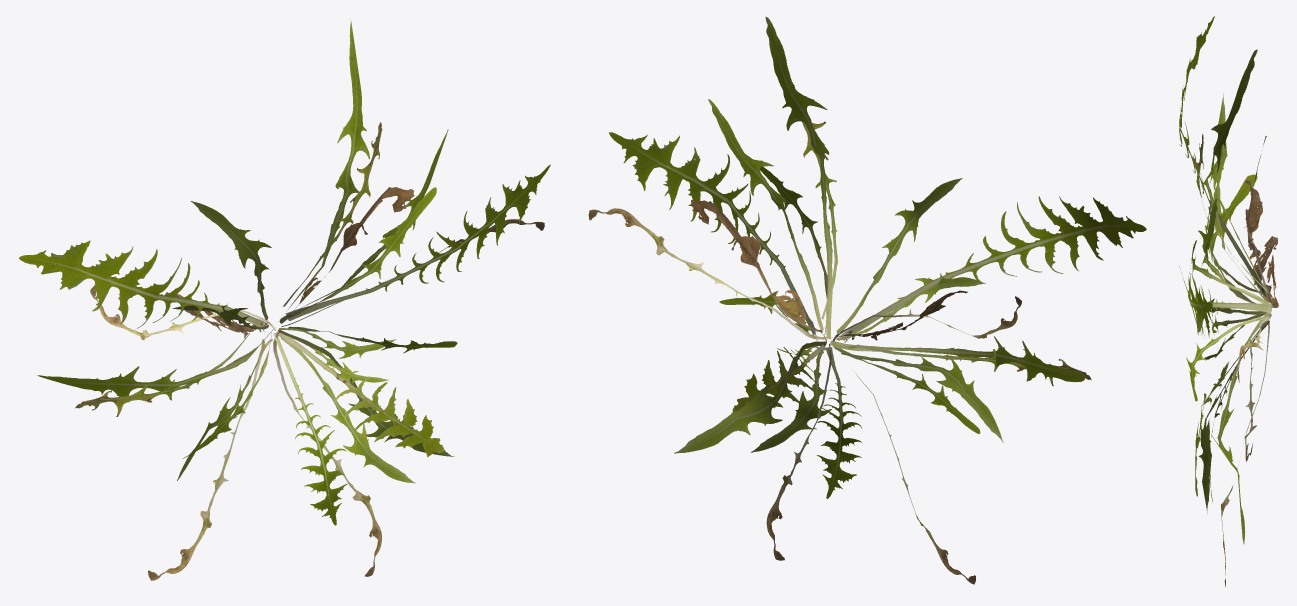
The model's file is Weed_02_Var1_LOD1.fbx.
The picture shows the model from 3 angles, left to right: view 1: azimuth 30°, elevation 25°; view 2: azimuth 150°, elevation 25°; view 3: azimuth 270°, elevation 25°; orthographic projection. The views are drawn at different scales.
Parts seen in each view (by area): view 1: Var1_LOD1; view 2: Var1_LOD1; view 3: Var1_LOD1.
Boxes of the visible parts, bbox=[...] form: Var1_LOD1: bbox=[19, 21, 550, 580]; Var1_LOD1: bbox=[588, 17, 1146, 584]; Var1_LOD1: bbox=[1179, 16, 1278, 586].
Size of the model in its own units: 37.5 by 36.43 by 6.31.
